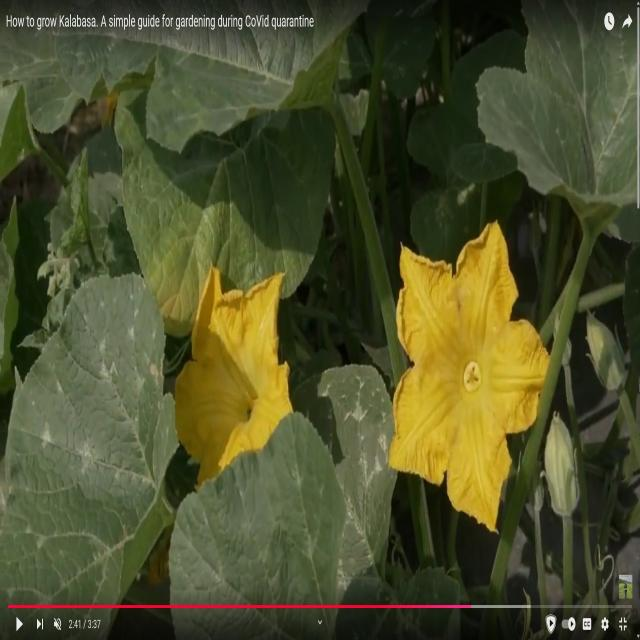flower: (387, 211, 549, 536)
